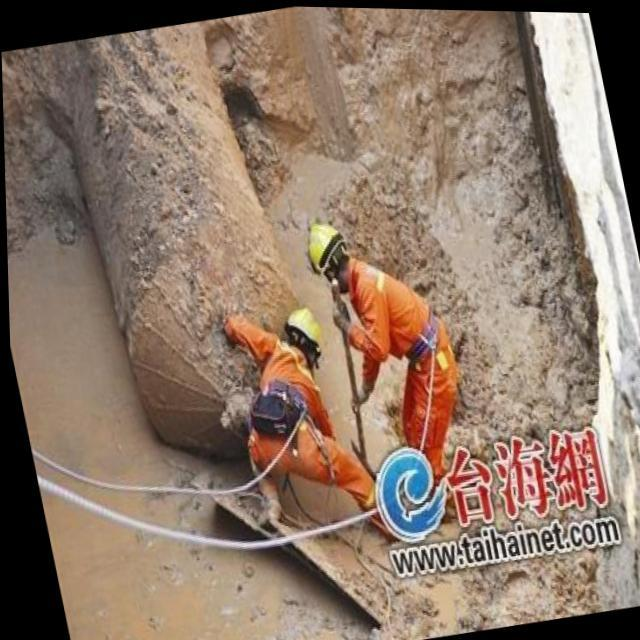belt: (227, 366, 351, 516)
